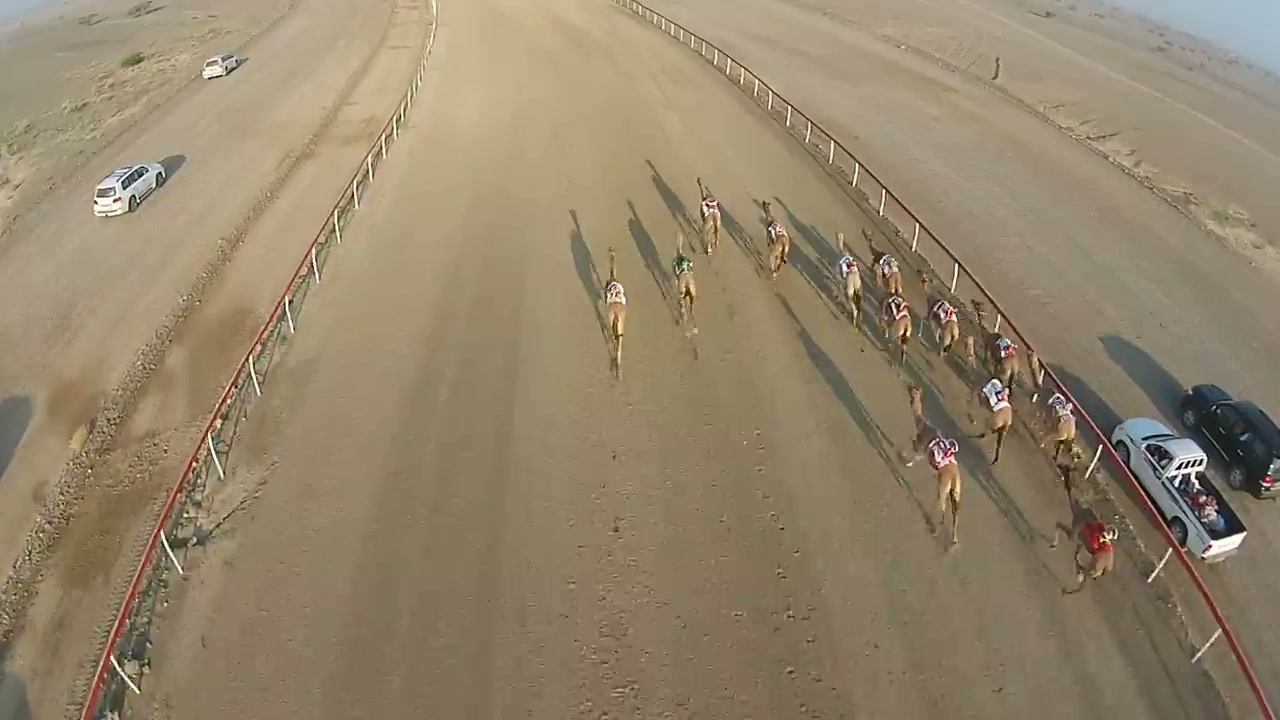animal_foot_print: (584, 346, 868, 719)
